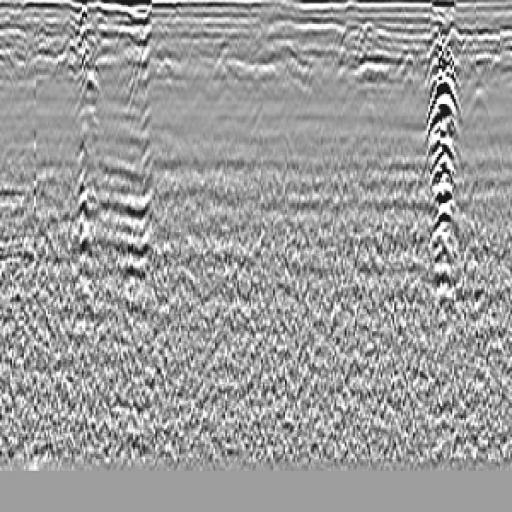metalic: (418, 21, 478, 302)
non-metallic: (66, 13, 110, 288)
nonmetalic: (460, 73, 505, 160)
